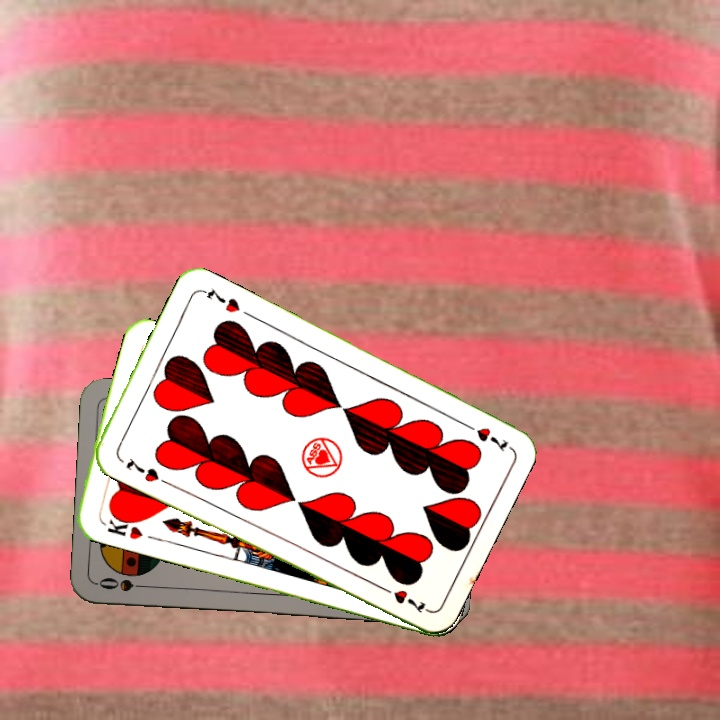H7: (458, 418, 511, 455), (121, 453, 162, 485)
HK: (97, 509, 146, 542)
SO: (95, 573, 154, 595)
